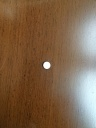Yuvarlak Buskopan: (42, 60, 51, 70)
